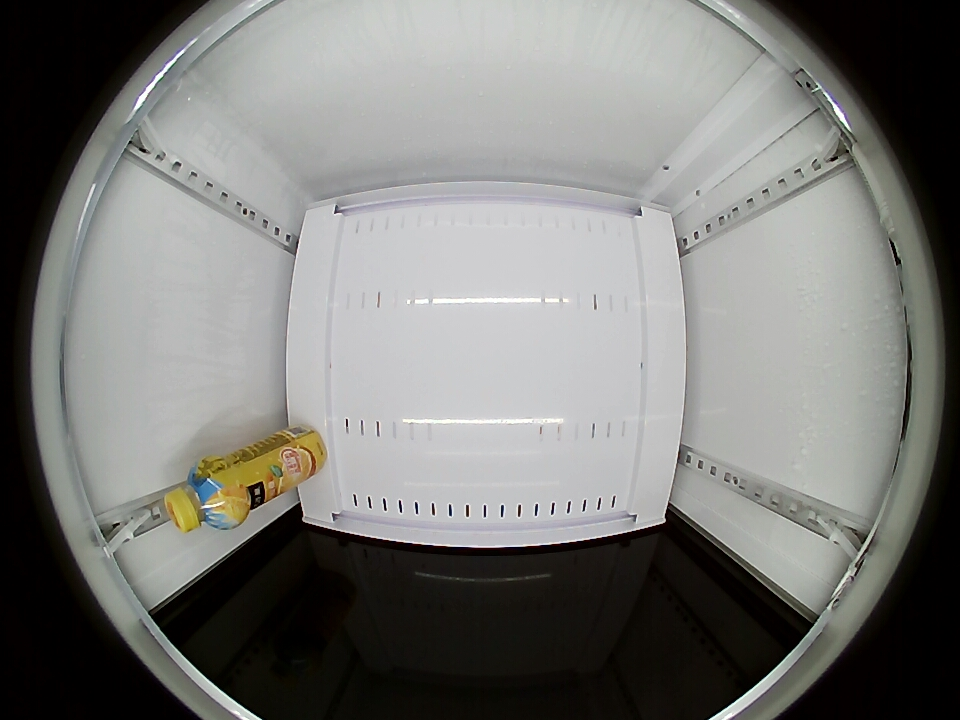guolicheng: (164, 457, 245, 533)
